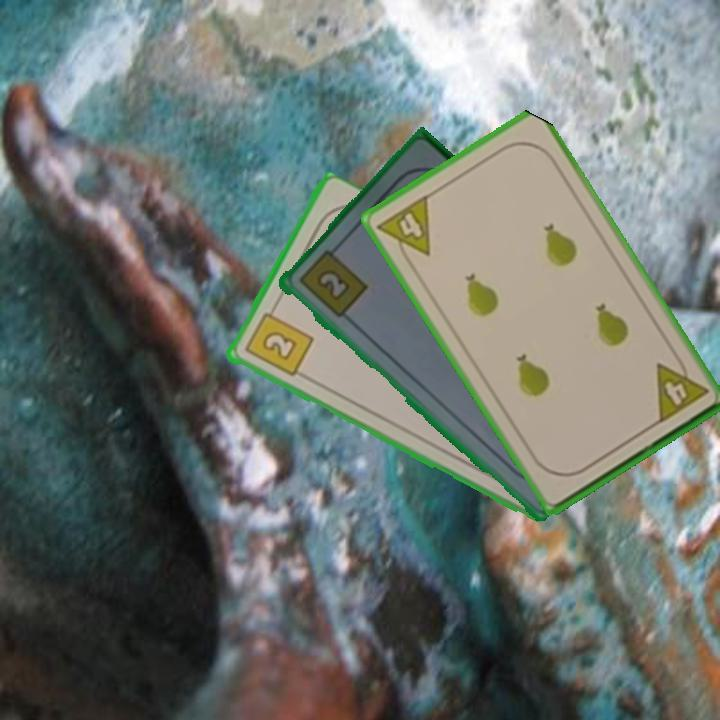2b: (294, 242, 370, 321), (240, 303, 315, 380)
4p: (373, 191, 433, 270), (651, 350, 711, 427)
